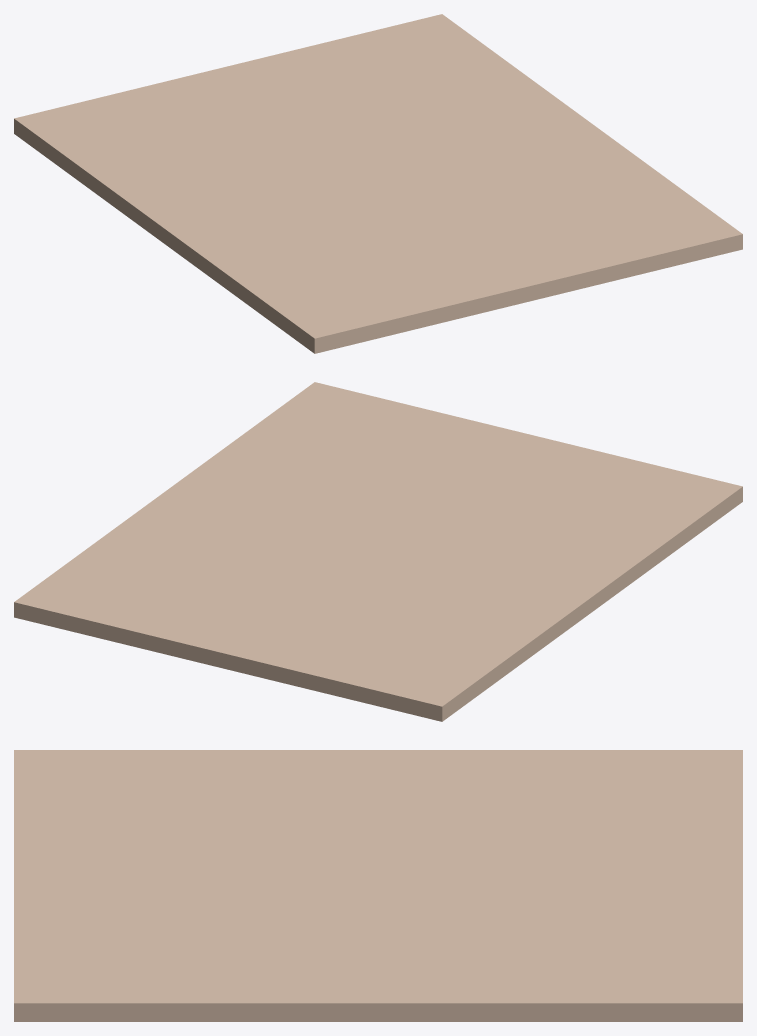
Rendered from F11_Roof.fbx.
3 views of the same model, one above another, from view 1: azimuth 30°, elevation 25°; view 2: azimuth 150°, elevation 25°; view 3: azimuth 270°, elevation 25° (orthographic). The views are drawn at different scales.
Visible parts, largest first — view 1: Roof; view 2: Roof; view 3: Roof.
Part boxes in pixels (x1,y1,x2,y2): Roof: (14,14,742,353); Roof: (14,382,742,721); Roof: (14,750,742,1021).
Bounding box in the file's own units: 33.98 × 1.16 × 41.34.
